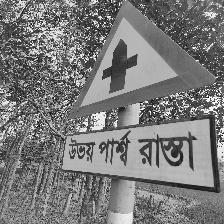Crossroad: (73, 0, 224, 187)
